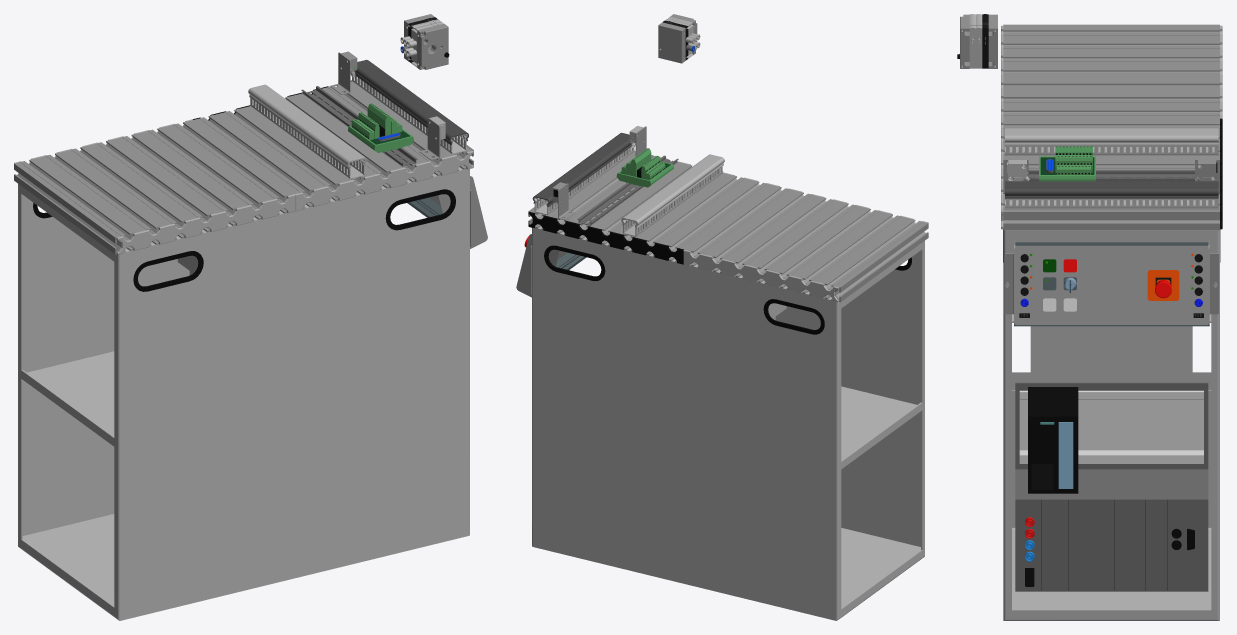
The model's file is Schrank.fbx.
The picture shows the model from 3 angles, left to right: view 1: azimuth 30°, elevation 25°; view 2: azimuth 150°, elevation 25°; view 3: azimuth 270°, elevation 25°; orthographic projection. The views are drawn at different scales.
Visible parts, largest first — view 1: et_0102_Schrank_Unterbau_body1_2, et_0100_Schrank_Profil_body1_2, et_0101_Schrank_Abdeckung_body1_8, et_0101_Schrank_Abdeckung_body1_6, et_0105_Kabelfuerung_body1_4, et_0105_Kabelfuerung_body1_3, et_0114_E_A_Terminal_body18_2, et_0107_Ventilinsel_body1_2, et_0113_Schiene_body1_2, et_0105_Kabelfuerung_body2_4, et_0105_Kabelfuerung_body2_3, et_0104_Panel_body59_2 (+2 smaller); view 2: et_0102_Schrank_Unterbau_body1_2, et_0100_Schrank_Profil_body1_2, et_0101_Schrank_Abdeckung_body1_7, et_0101_Schrank_Abdeckung_body1_5, et_0105_Kabelfuerung_body1_4, et_0105_Kabelfuerung_body1_3, et_0114_E_A_Terminal_body18_2, et_0106_Ventilinsel_body1_2, et_0113_Schiene_body1_2, et_0105_Kabelfuerung_body2_4, et_0105_Kabelfuerung_body2_3, et_0104_Panel_body12_2 (+2 smaller); view 3: et_0100_Schrank_Profil_body1_2, et_0102_Schrank_Unterbau_body1_2, et_0103_Schrank_SPS_body5_2, et_0103_Schrank_SPS_body29_2, et_0103_Schrank_SPS_body37_2, et_0104_Panel_body5_2, et_0103_Schrank_SPS_body11_2, et_0105_Kabelfuerung_body1_3, et_0105_Kabelfuerung_body1_4, et_0103_Schrank_SPS_body14_2, et_0104_Panel_body33_2, et_0104_Panel_body31_2 (+24 smaller).
Boxes of the visible parts, left/top/right/bottom form: et_0102_Schrank_Unterbau_body1_2: left=18, top=167, right=469, bottom=620; et_0100_Schrank_Profil_body1_2: left=14, top=81, right=473, bottom=254; et_0101_Schrank_Abdeckung_body1_8: left=116, top=194, right=295, bottom=254; et_0101_Schrank_Abdeckung_body1_6: left=295, top=150, right=473, bottom=211; et_0105_Kabelfuerung_body1_4: left=248, top=84, right=367, bottom=169; et_0105_Kabelfuerung_body1_3: left=355, top=59, right=468, bottom=144; et_0114_E_A_Terminal_body18_2: left=348, top=103, right=413, bottom=152; et_0107_Ventilinsel_body1_2: left=417, top=23, right=448, bottom=69; et_0113_Schiene_body1_2: left=301, top=86, right=417, bottom=166; et_0105_Kabelfuerung_body2_4: left=250, top=98, right=365, bottom=179; et_0105_Kabelfuerung_body2_3: left=352, top=76, right=467, bottom=154; et_0104_Panel_body59_2: left=438, top=176, right=487, bottom=248; et_0102_Schrank_Unterbau_body1_2: left=532, top=226, right=924, bottom=620; et_0100_Schrank_Profil_body1_2: left=528, top=151, right=928, bottom=302; et_0101_Schrank_Abdeckung_body1_7: left=683, top=249, right=839, bottom=302; et_0101_Schrank_Abdeckung_body1_5: left=528, top=212, right=683, bottom=264; et_0105_Kabelfuerung_body1_4: left=621, top=154, right=724, bottom=228; et_0105_Kabelfuerung_body1_3: left=532, top=132, right=631, bottom=206; et_0114_E_A_Terminal_body18_2: left=616, top=148, right=673, bottom=187; et_0106_Ventilinsel_body1_2: left=658, top=22, right=685, bottom=63; et_0113_Schiene_body1_2: left=577, top=155, right=678, bottom=225; et_0105_Kabelfuerung_body2_4: left=622, top=166, right=722, bottom=236; et_0105_Kabelfuerung_body2_3: left=533, top=147, right=634, bottom=214; et_0104_Panel_body12_2: left=516, top=234, right=559, bottom=297; et_0100_Schrank_Profil_body1_2: left=1003, top=24, right=1219, bottom=230; et_0102_Schrank_Unterbau_body1_2: left=1003, top=230, right=1219, bottom=620; et_0103_Schrank_SPS_body5_2: left=1019, top=390, right=1203, bottom=463; et_0103_Schrank_SPS_body29_2: left=1015, top=382, right=1208, bottom=590; et_0103_Schrank_SPS_body37_2: left=1068, top=499, right=1113, bottom=591; et_0104_Panel_body5_2: left=1086, top=245, right=1137, bottom=324; et_0103_Schrank_SPS_body11_2: left=1028, top=387, right=1078, bottom=493; et_0105_Kabelfuerung_body1_3: left=1005, top=181, right=1218, bottom=198; et_0105_Kabelfuerung_body1_4: left=1005, top=128, right=1218, bottom=145; et_0103_Schrank_SPS_body14_2: left=1168, top=499, right=1208, bottom=591; et_0104_Panel_body33_2: left=1137, top=245, right=1189, bottom=324; et_0104_Panel_body31_2: left=1034, top=245, right=1085, bottom=324.
Size of the model in its own units: 75.52 by 41.86 by 99.7.
